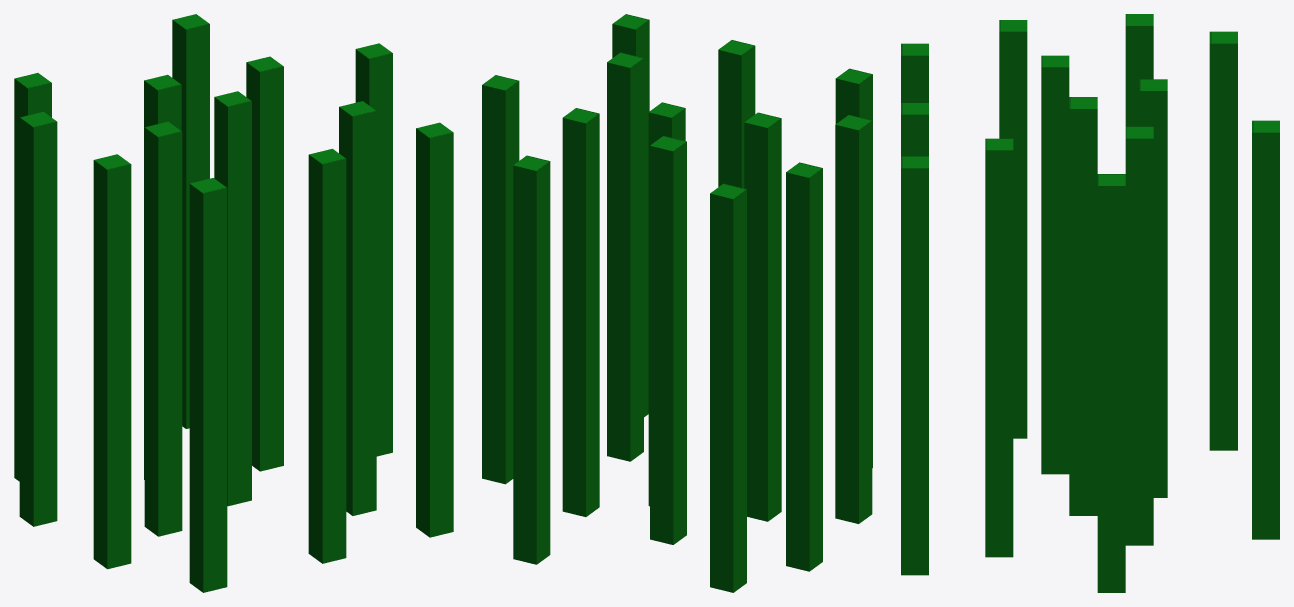
The model's file is reedLower.obj.
3 renders of one model, left to right at view 1: azimuth 30°, elevation 25°; view 2: azimuth 150°, elevation 25°; view 3: azimuth 270°, elevation 25°, orthographic. The views are drawn at different scales.
Visible parts, largest first — view 1: 56-topFace, 56-eastFace, 56-southFace; view 2: 56-bottomFace, 56-eastFace, 56-southFace; view 3: 56-westFace, 56-southFace.
Boxes of the visible parts, bbox=[...] form: 56-topFace: bbox=[28, 24, 453, 592]; 56-eastFace: bbox=[14, 20, 429, 592]; 56-southFace: bbox=[14, 14, 453, 193]; 56-bottomFace: bbox=[482, 24, 859, 592]; 56-eastFace: bbox=[505, 20, 872, 592]; 56-southFace: bbox=[482, 14, 872, 198]; 56-westFace: bbox=[901, 26, 1279, 592]; 56-southFace: bbox=[901, 14, 1279, 185].
Size of the model in its own units: 0.9062 by 1 by 0.8438.
Materials: 1 (1 with a texture image).
